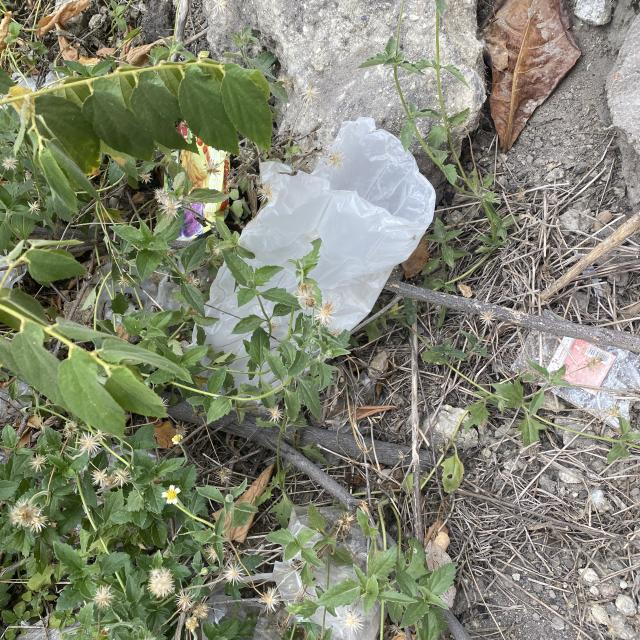Single-layer Plastic: (204, 117, 437, 379)
